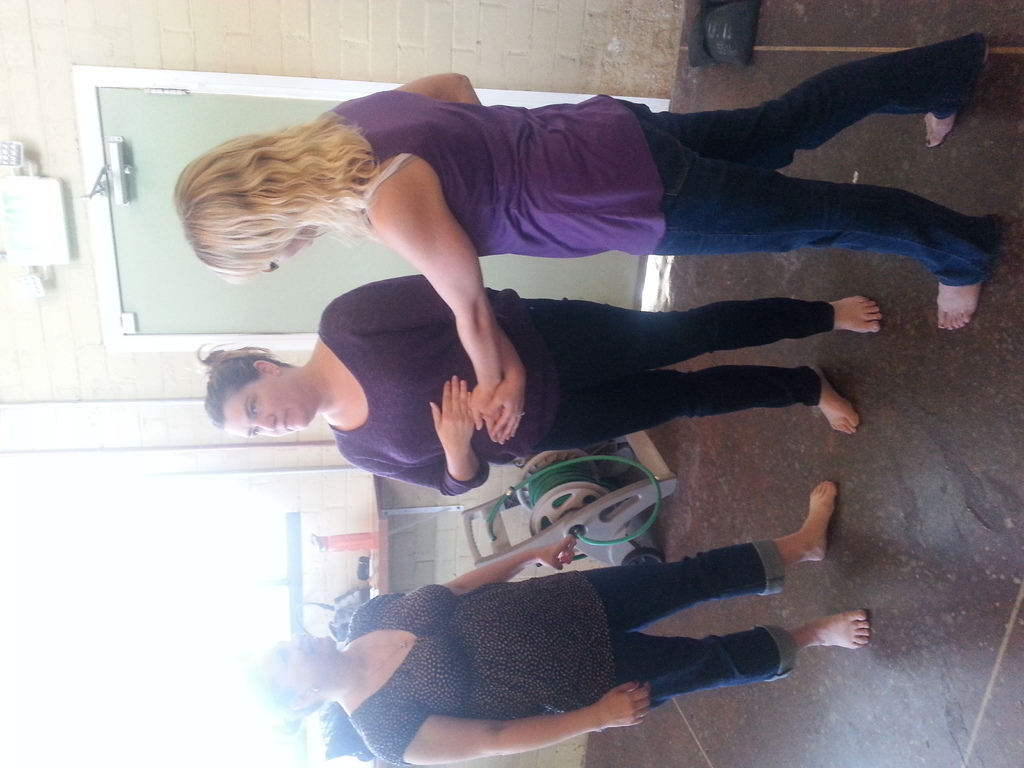Human_hand: (430, 373, 474, 457), (483, 374, 526, 440), (599, 679, 650, 727), (474, 381, 505, 445), (532, 534, 577, 571)
